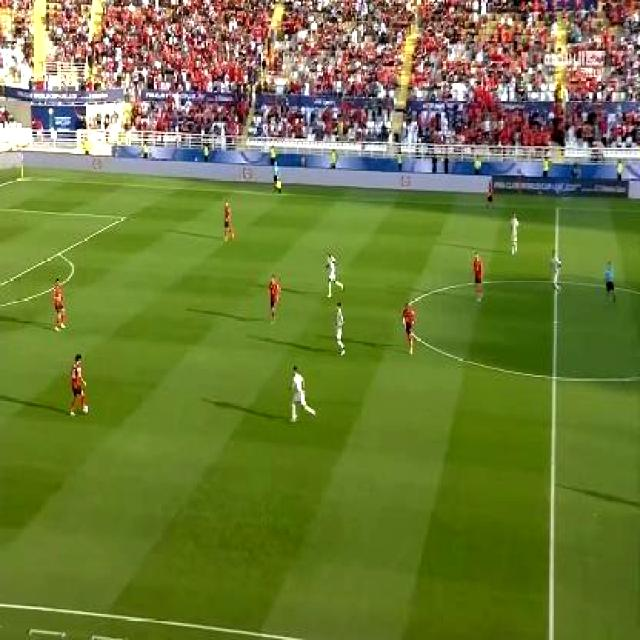bigarea_top_inner: (115, 209, 128, 225)
corner: (14, 169, 29, 182)
halfcircle_bottom: (543, 362, 565, 391)
midline_top_intersection: (550, 196, 564, 216)
top_arc_area_intersection: (50, 245, 64, 260)
